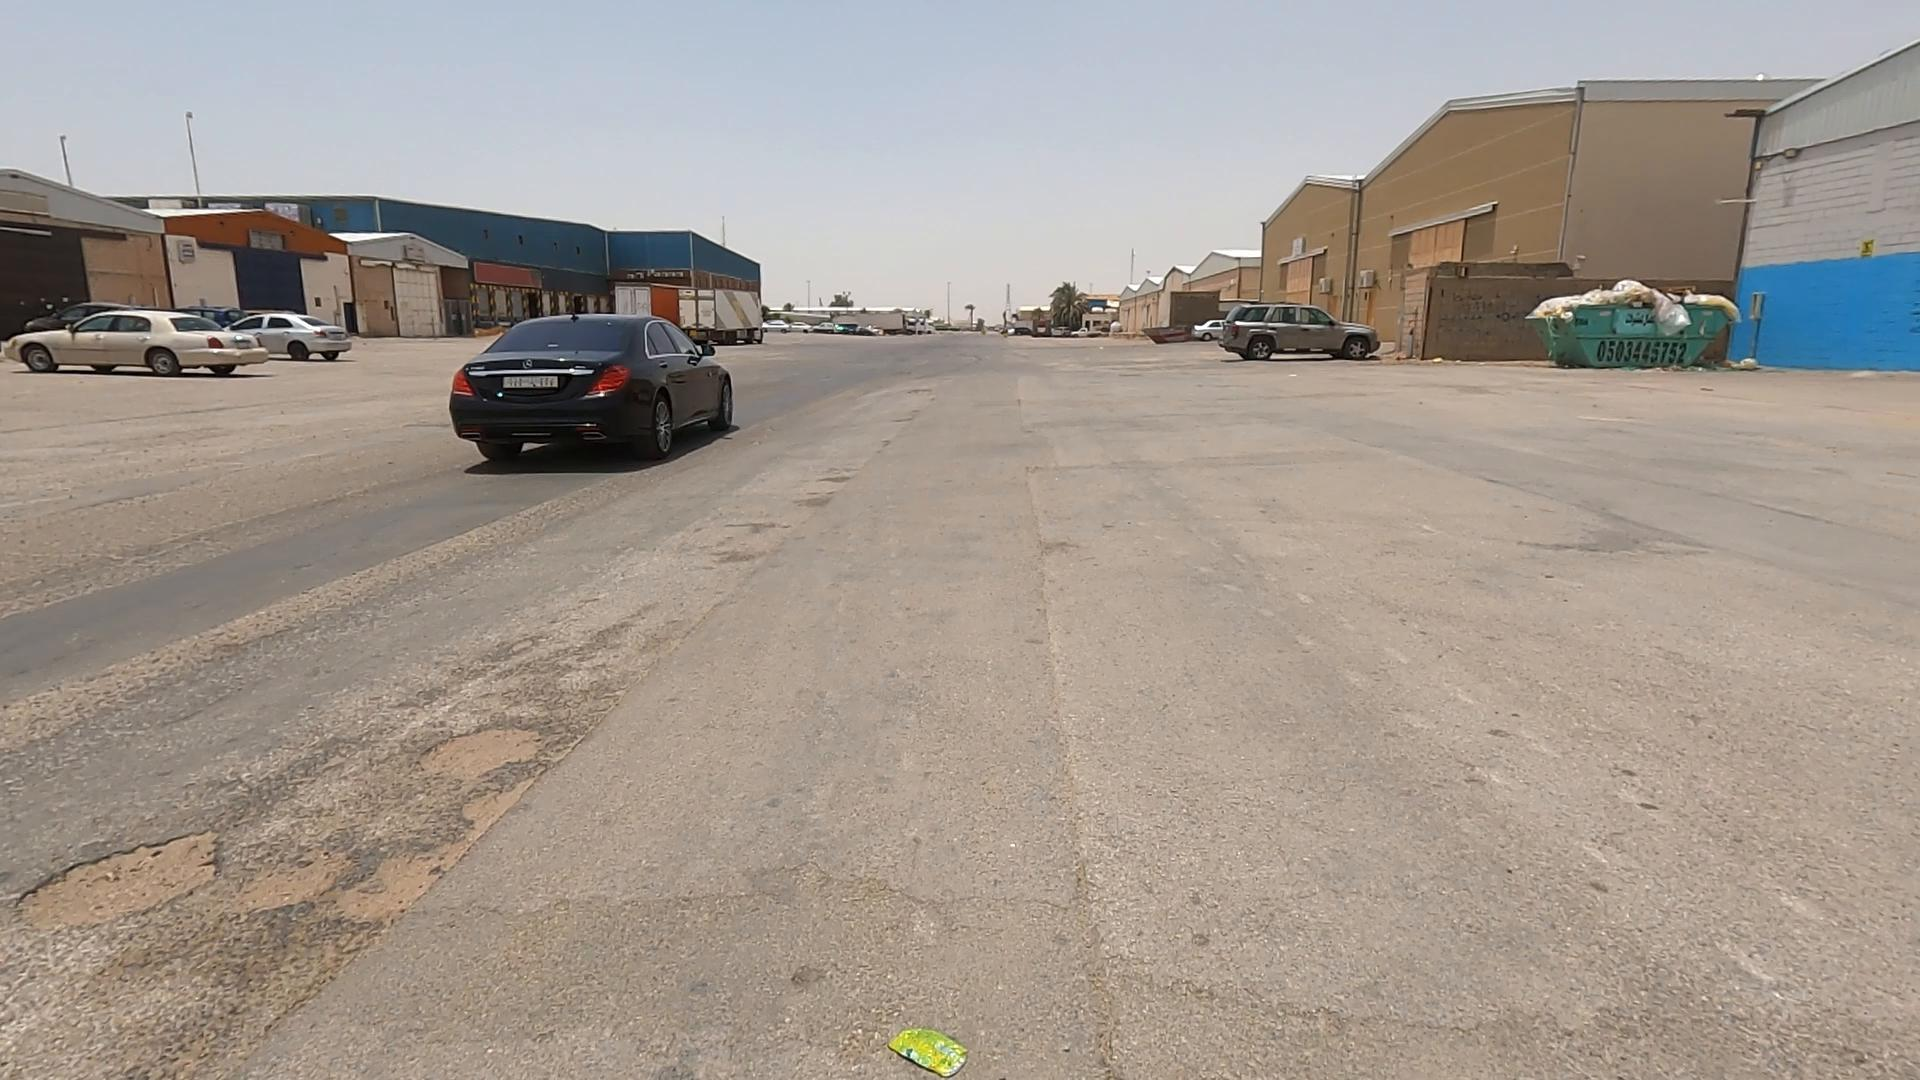Building: (4, 815, 232, 939), (16, 832, 214, 924), (401, 700, 555, 808), (233, 836, 357, 919), (244, 852, 339, 911), (423, 731, 537, 779)
